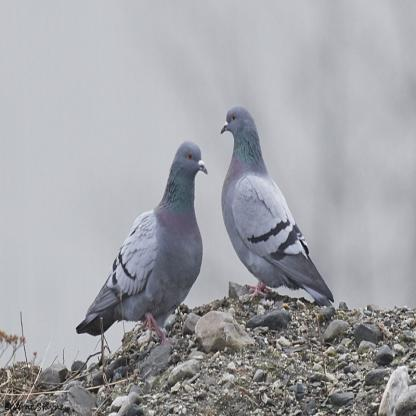Rock Pigeon: (63, 139, 210, 346), (219, 105, 339, 302)
